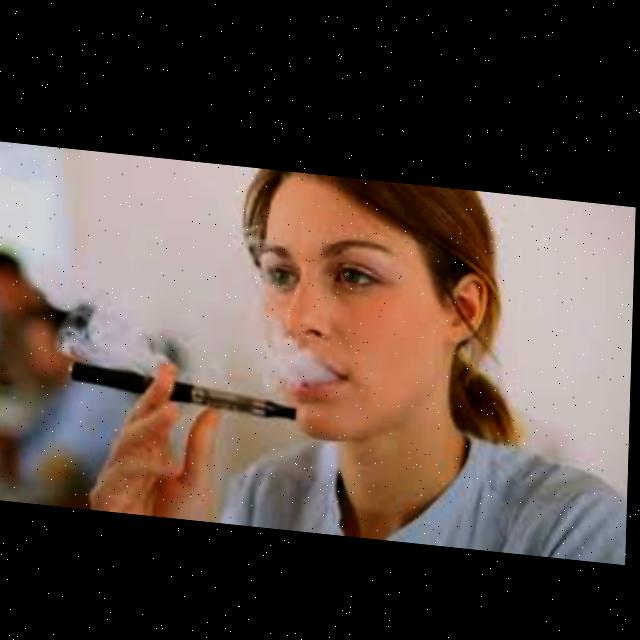vape: (72, 360, 301, 416)
